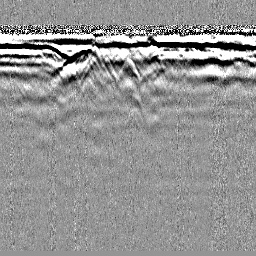cavity: (117, 57, 139, 81)
